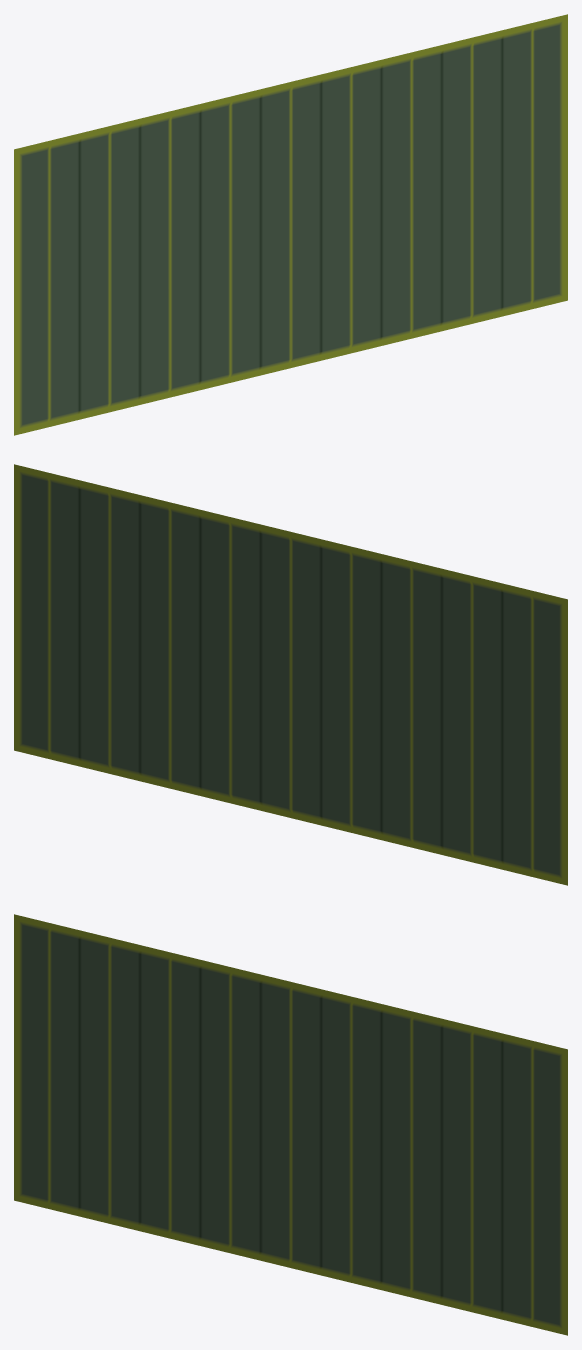
Rendered from SM_000452_w40h004_glassfloor.fbx.
The picture shows the model from 3 angles, top to bottom: view 1: azimuth 30°, elevation 25°; view 2: azimuth 150°, elevation 25°; view 3: azimuth 330°, elevation 25°; orthographic projection.
Visible parts, largest first — view 1: SM_000452.001; view 2: SM_000452.001; view 3: SM_000452.001.
Part boxes in pixels (x1=…): SM_000452.001: x1=14, y1=14, x2=567, y2=435; SM_000452.001: x1=14, y1=464, x2=567, y2=885; SM_000452.001: x1=14, y1=914, x2=567, y2=1335.
Bounding box in the file's own units: 32 × 15.8 × 0.
